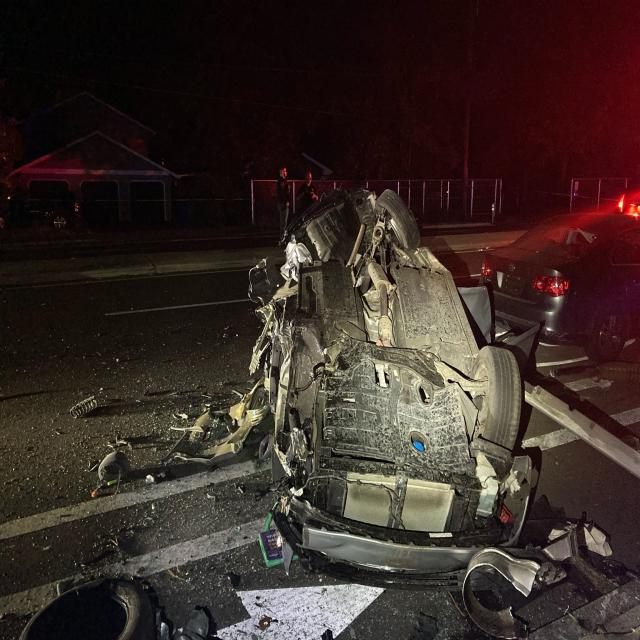Accident: (170, 188, 534, 586)
